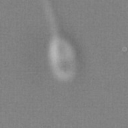normal: (38, 1, 60, 38)
